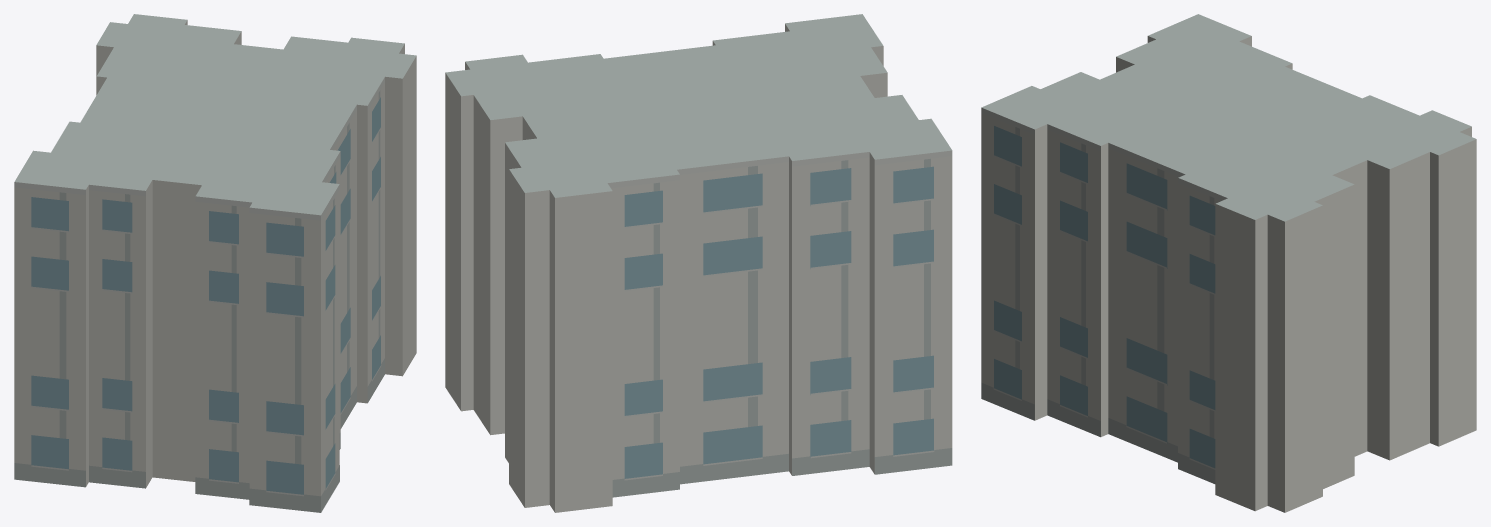
Rendered from survey-upis-32923465.glb.
3 renders of one model, left to right at view 1: azimuth 30°, elevation 25°; view 2: azimuth 150°, elevation 25°; view 3: azimuth 270°, elevation 25°, orthographic. The views are drawn at different scales.
Visible parts, largest first — view 1: survey-upis-32923465.tmp; view 2: survey-upis-32923465.tmp; view 3: survey-upis-32923465.tmp.
Boxes of the visible parts, bbox=[...] form: survey-upis-32923465.tmp: bbox=[14, 14, 416, 512]; survey-upis-32923465.tmp: bbox=[445, 14, 952, 512]; survey-upis-32923465.tmp: bbox=[981, 14, 1476, 512].
Bounding box in the file's own units: 20.49 × 13.4 × 20.66.
